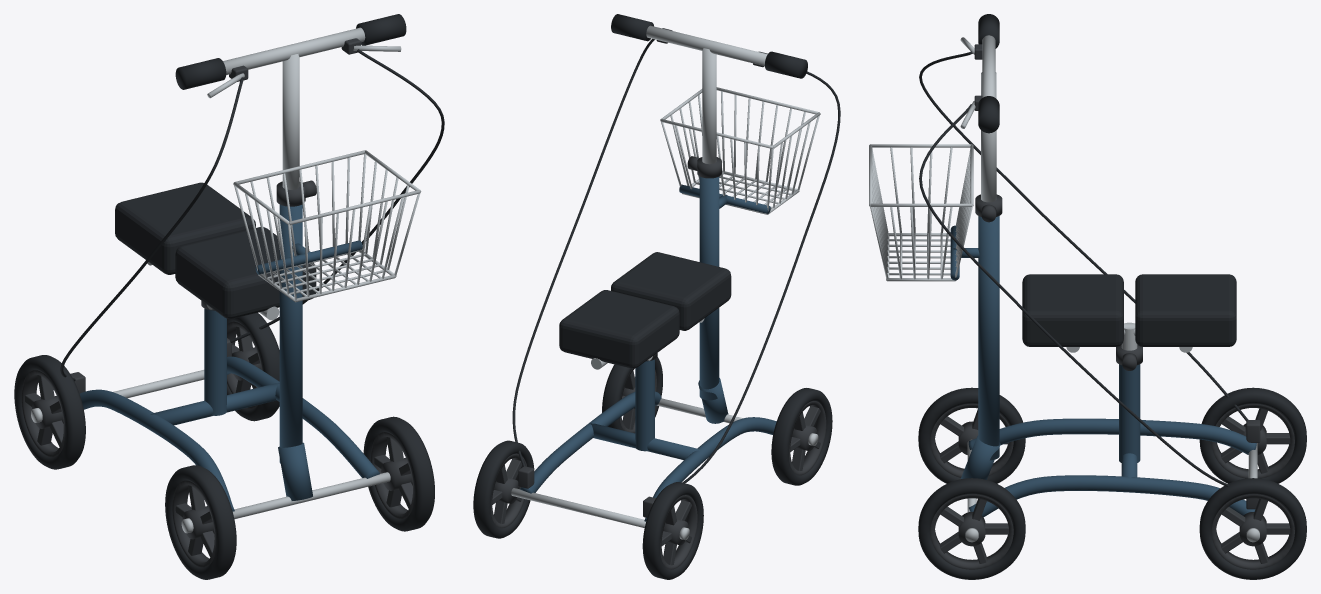
The model's file is full.fbx.
The picture shows the model from 3 angles, left to right: view 1: azimuth 30°, elevation 25°; view 2: azimuth 150°, elevation 25°; view 3: azimuth 270°, elevation 25°; orthographic projection. The views are drawn at different scales.
Visible parts, largest first — view 1: Front thick rounded knee pad, Rear thick rounded knee pad, Outer steering column, Front Left tire, Rear Left tire, Front Right tire, Left curved chassis rail, Right curved chassis rail, Telescopic steering stem, Outer pad support column, Rear Right tire, T handlebar (+17 smaller); view 2: Rear thick rounded knee pad, Front thick rounded knee pad, Outer steering column, Front Left tire, Rear Left tire, Rear Right tire, Right curved chassis rail, Left curved chassis rail, Telescopic steering stem, Outer pad support column, T handlebar, Left continuous brake cable (+12 smaller); view 3: Rear thick rounded knee pad, Front thick rounded knee pad, Outer steering column, Front Right tire, Rear Right tire, Left curved chassis rail, Right curved chassis rail, Rear Left tire, Front Left tire, Outer pad support column, Right continuous brake cable, Front Right wheel rim (+10 smaller).
Boxes of the visible parts, left/top/right/bottom form: Front thick rounded knee pad: left=175, top=227, right=316, bottom=318; Rear thick rounded knee pad: left=115, top=182, right=255, bottom=274; Outer steering column: left=279, top=204, right=302, bottom=463; Front Left tire: left=165, top=465, right=236, bottom=579; Rear Left tire: left=14, top=355, right=85, bottom=469; Front Right tire: left=363, top=416, right=434, bottom=531; Left curved chassis rail: left=79, top=389, right=234, bottom=511; Right curved chassis rail: left=227, top=356, right=379, bottom=478; Telescopic steering stem: left=282, top=54, right=299, bottom=189; Outer pad support column: left=204, top=308, right=226, bottom=415; Rear Right tire: left=227, top=312, right=279, bottom=421; T handlebar: left=223, top=27, right=365, bottom=74; Rear thick rounded knee pad: left=559, top=290, right=679, bottom=368; Front thick rounded knee pad: left=611, top=252, right=731, bottom=330; Outer steering column: left=699, top=176, right=719, bottom=400; Front Left tire: left=771, top=388, right=832, bottom=485; Rear Left tire: left=642, top=482, right=703, bottom=579; Rear Right tire: left=473, top=440, right=534, bottom=538; Right curved chassis rail: left=520, top=391, right=661, bottom=493; Left curved chassis rail: left=644, top=417, right=776, bottom=521; Telescopic steering stem: left=702, top=48, right=716, bottom=164; Outer pad support column: left=635, top=359, right=654, bottom=451; T handlebar: left=646, top=25, right=767, bottom=65; Left continuous brake cable: left=682, top=71, right=840, bottom=483; Rear thick rounded knee pad: left=1135, top=274, right=1236, bottom=346; Front thick rounded knee pad: left=1022, top=274, right=1123, bottom=346; Outer steering column: left=978, top=216, right=999, bottom=460; Front Right tire: left=918, top=478, right=1025, bottom=579; Rear Right tire: left=1199, top=478, right=1306, bottom=579; Left curved chassis rail: left=968, top=418, right=1256, bottom=454; Right curved chassis rail: left=969, top=475, right=1255, bottom=517; Rear Left tire: left=1199, top=387, right=1306, bottom=483; Front Left tire: left=918, top=387, right=1025, bottom=483; Outer pad support column: left=1119, top=364, right=1140, bottom=462; Right continuous brake cable: left=919, top=104, right=1228, bottom=486; Front Right wheel rim: left=930, top=494, right=1013, bottom=569.
Size of the model in its own units: 48.9 by 91.9 by 77.83.
